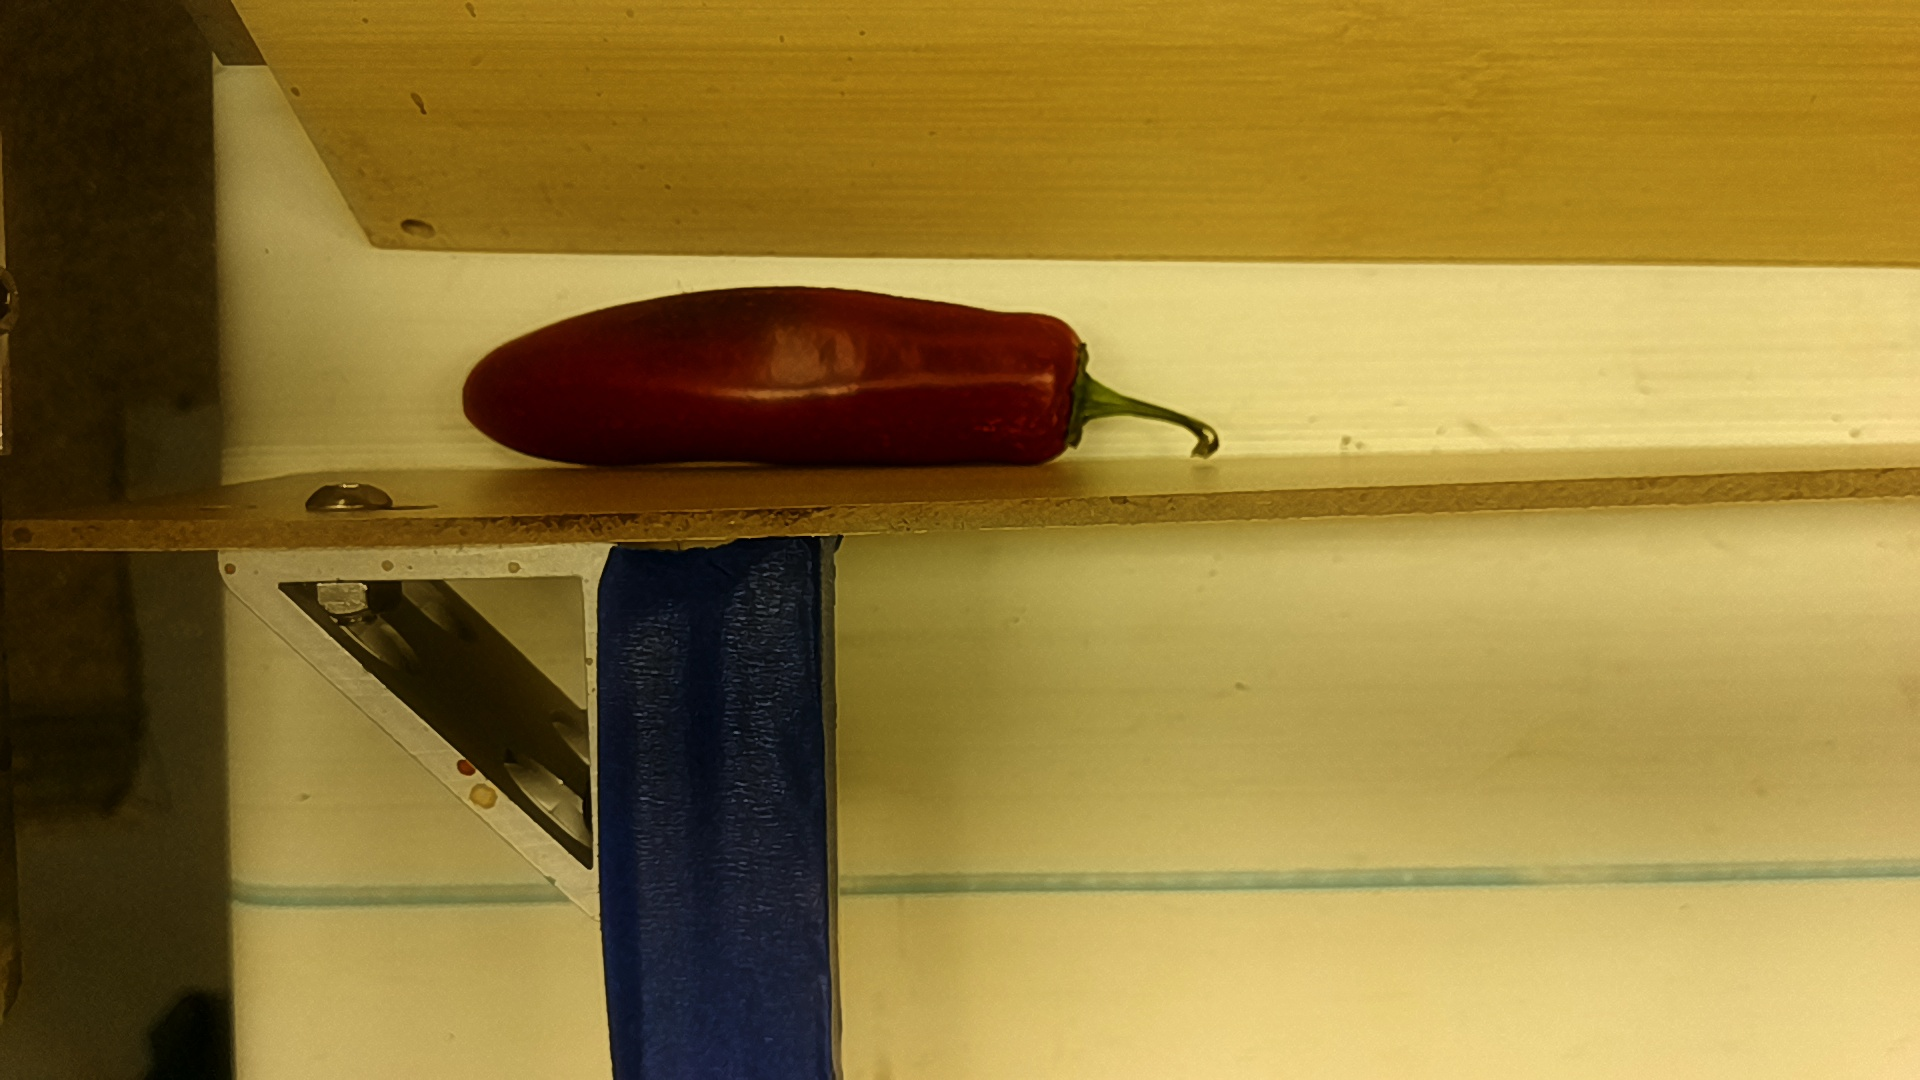Cut Point: (1036, 303, 1104, 473)
